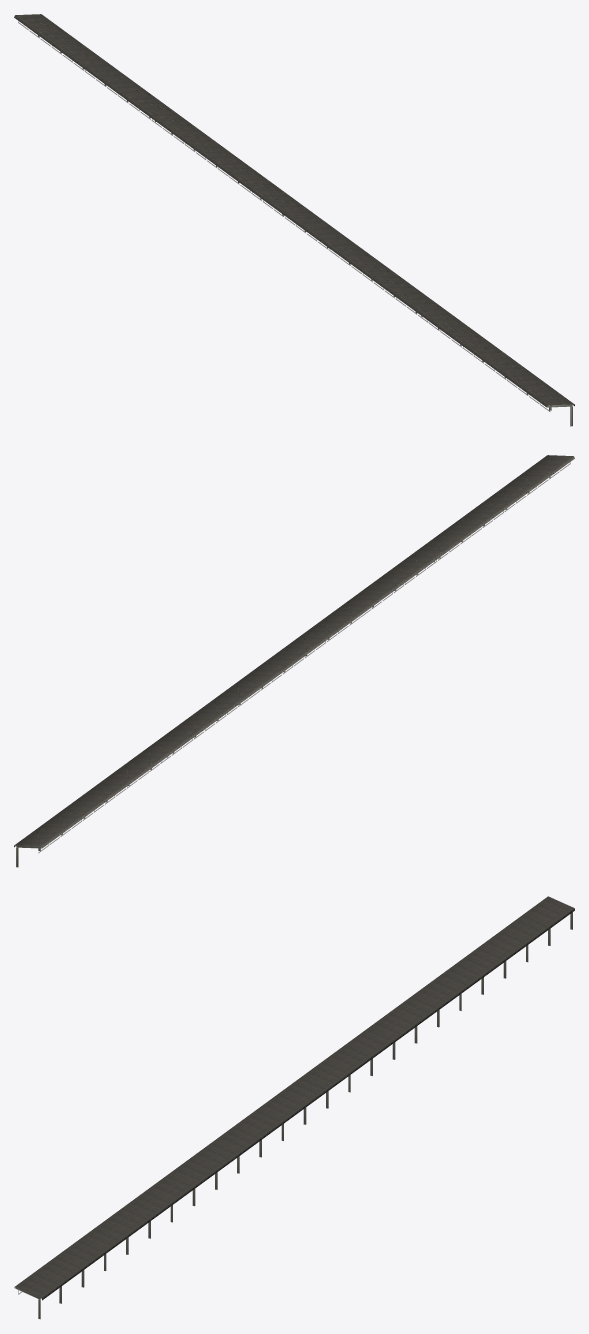
The model's file is LEFT_STATION_24.glb.
The picture shows the model from 3 angles, top to bottom: view 1: azimuth 30°, elevation 25°; view 2: azimuth 150°, elevation 25°; view 3: azimuth 330°, elevation 25°; orthographic projection.
Visible parts, largest first — view 1: obj17; view 2: obj17; view 3: obj17.
Part boxes in pixels (x1,y1,x2,y2): obj17: (14, 14, 574, 407); obj17: (14, 455, 574, 848); obj17: (14, 896, 574, 1300).
Size of the model in its own units: 9.08 by 8.42 by 300.
79 materials, 55 textured.
